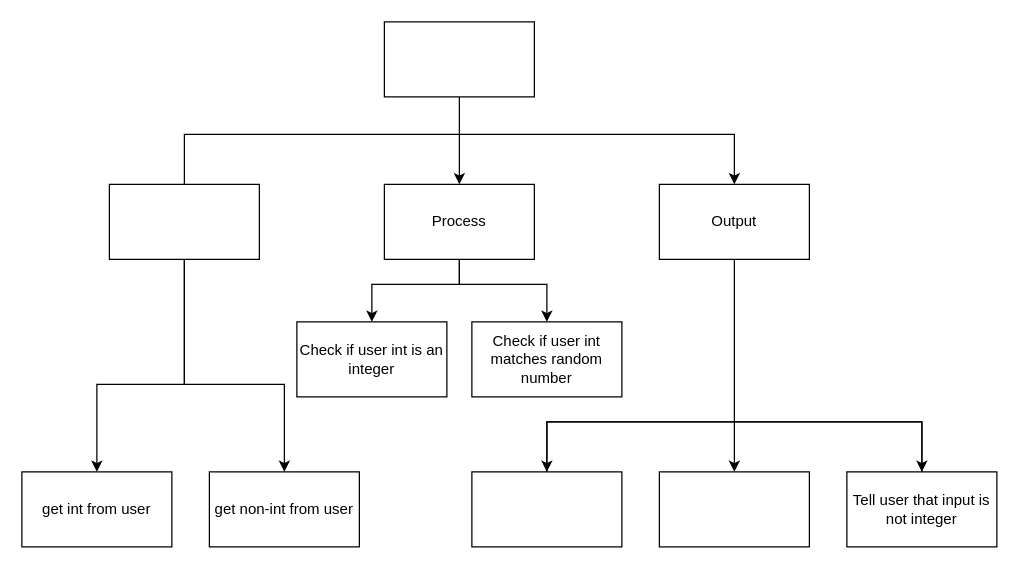
Image size: 1019x569. Some labels were removed from this diagram. Each missing label, with the centre of its shape:
Input: the point at 183,221
Number Guessing Game: the point at 458,59
Show answer: the point at 733,509
Show thank you message: the point at 546,509
